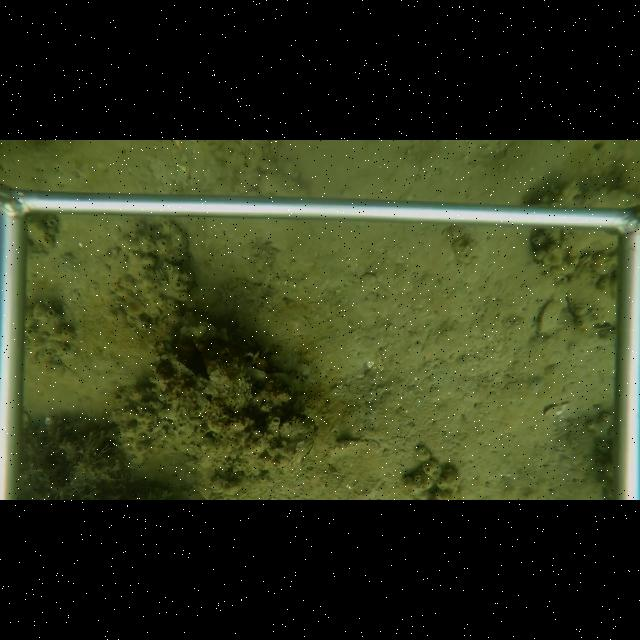Oyster-Closed: (164, 355, 213, 393), (534, 300, 564, 337)
